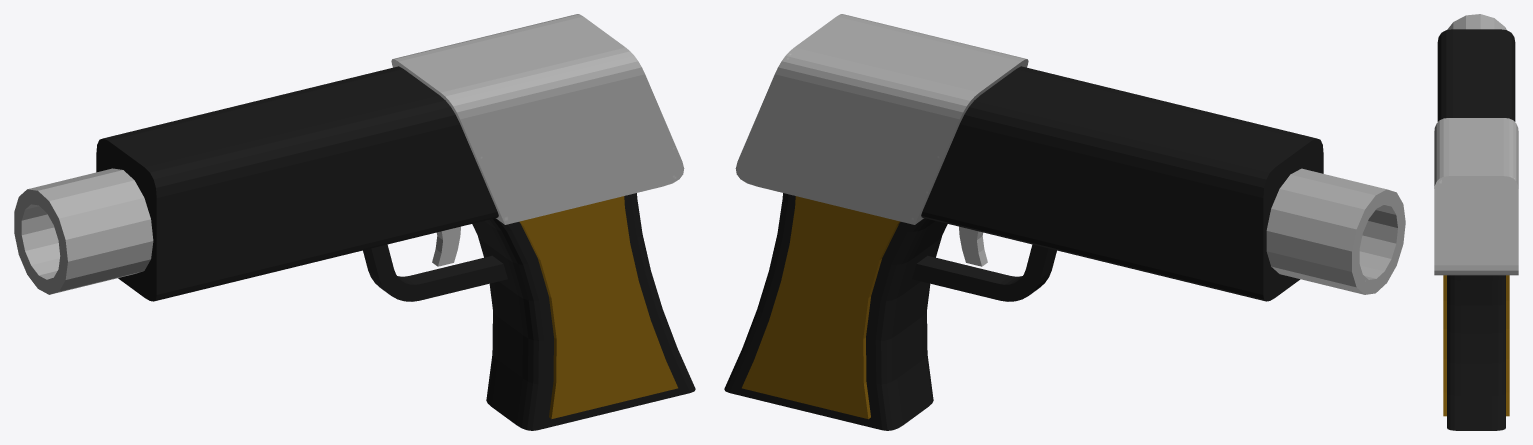
File: Gun.gltf
The picture shows the model from 3 angles, left to right: view 1: azimuth 30°, elevation 25°; view 2: azimuth 150°, elevation 25°; view 3: azimuth 270°, elevation 25°; orthographic projection. The views are drawn at different scales.
Parts seen in each view (by area): view 1: Gun; view 2: Gun; view 3: Gun.
Boxes of the visible parts, bbox=[...] form: Gun: bbox=[14, 14, 695, 430]; Gun: bbox=[724, 14, 1405, 430]; Gun: bbox=[1434, 14, 1518, 430].
Size of the model in its own units: 35.17 by 18.97 by 6.27.
Materials: 1 (1 with a texture image).
